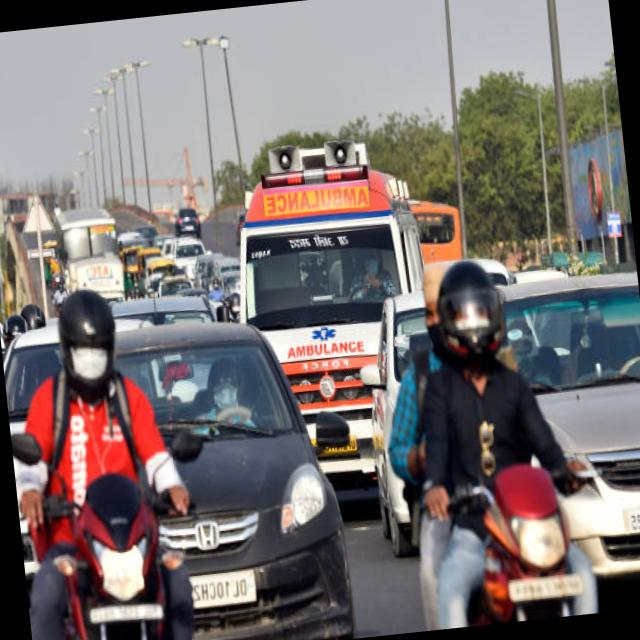ambulance: (254, 180, 396, 233), (256, 152, 370, 198), (275, 318, 372, 372)
